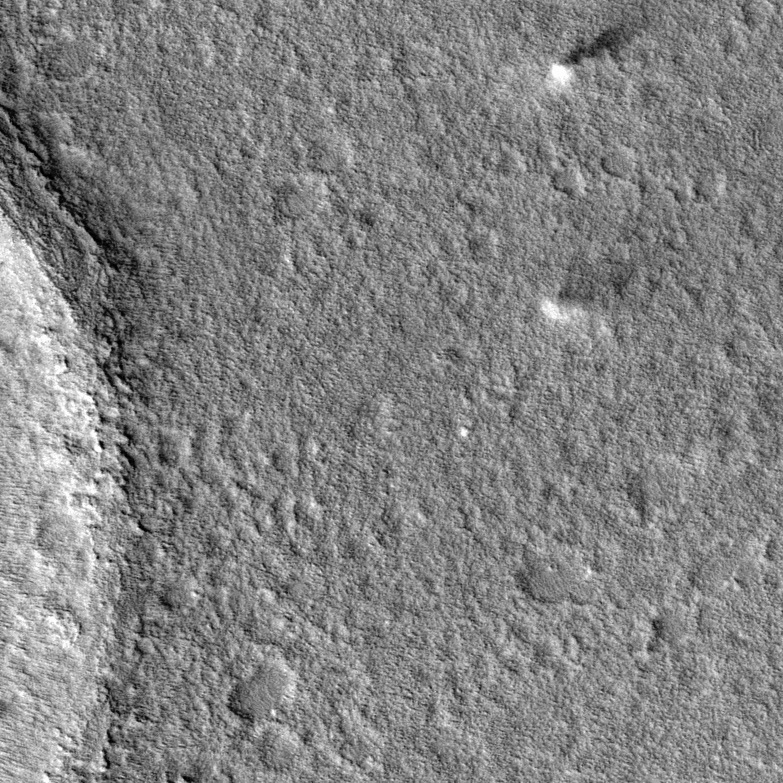dust_devil: (548, 19, 638, 87), (537, 274, 628, 323)
